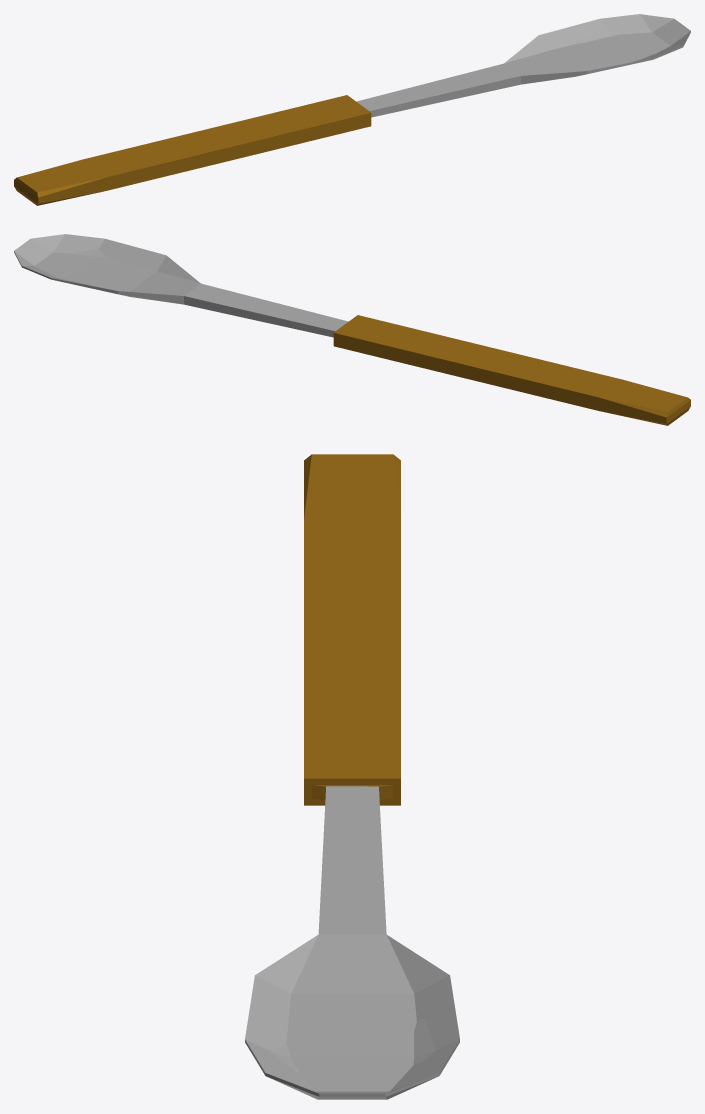
The model's file is tablespoon-01.obj.
The picture shows the model from 3 angles, top to bottom: view 1: azimuth 30°, elevation 25°; view 2: azimuth 150°, elevation 25°; view 3: azimuth 270°, elevation 25°; orthographic projection. The views are drawn at different scales.
Visible parts, largest first — view 1: Cylinder_Cylinder.001; view 2: Cylinder_Cylinder.001; view 3: Cylinder_Cylinder.001.
Boxes of the visible parts, x1,y1,x2,y2 form: Cylinder_Cylinder.001: [14, 14, 690, 205]; Cylinder_Cylinder.001: [14, 234, 690, 425]; Cylinder_Cylinder.001: [245, 454, 459, 1099].
Size of the model in its own units: 0.1924 by 0.00422 by 0.0273.
